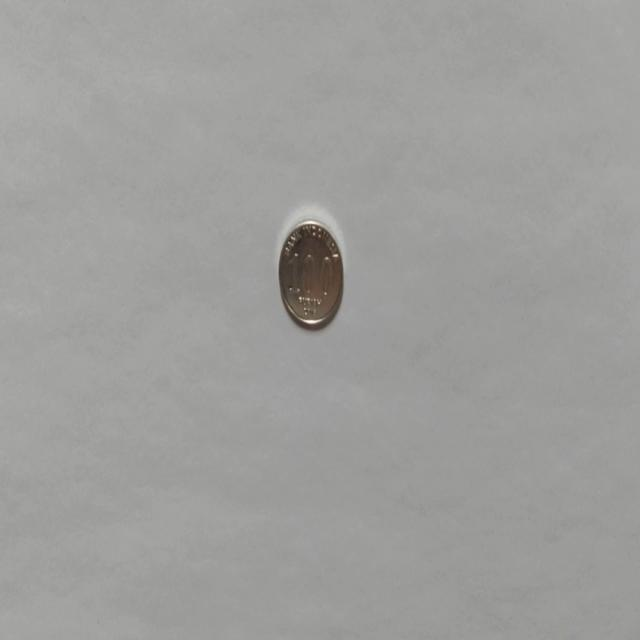seratus rupiah: (278, 217, 344, 331)
